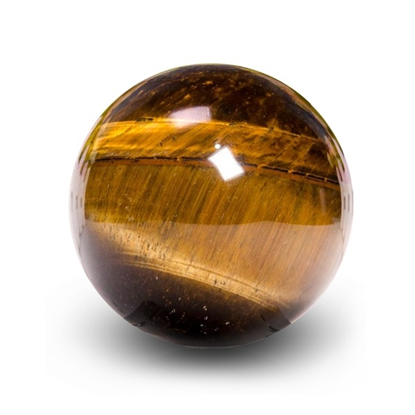Tigers_Eye: (67, 61, 356, 351)
